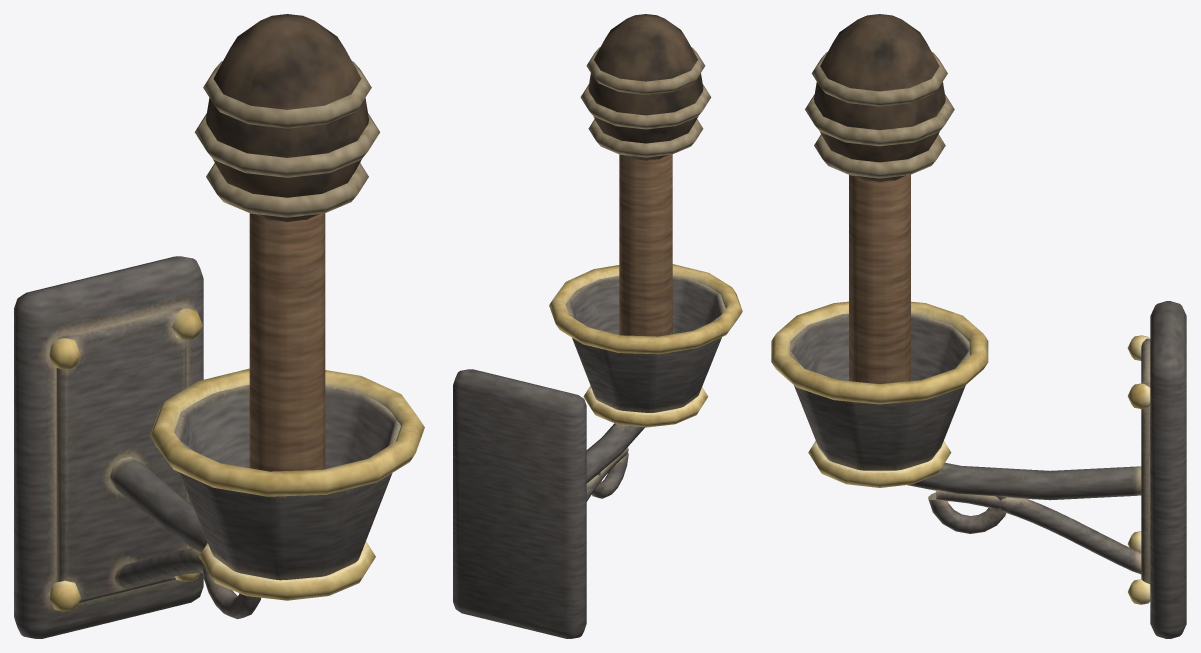
File: wall_torch_sconce.glb
3 renders of one model, left to right at view 1: azimuth 30°, elevation 25°; view 2: azimuth 150°, elevation 25°; view 3: azimuth 270°, elevation 25°, orthographic. The views are drawn at different scales.
Parts seen in each view (by area): view 1: wall_torch_sconce; view 2: wall_torch_sconce; view 3: wall_torch_sconce.
Boxes of the visible parts, x1,y1,x2,y2 form: wall_torch_sconce: [14, 14, 424, 638]; wall_torch_sconce: [453, 14, 742, 638]; wall_torch_sconce: [771, 14, 1186, 638].
Bounding box in the file's own units: 0.196 × 0.5733 × 0.3655.
1 material, 1 textured.
